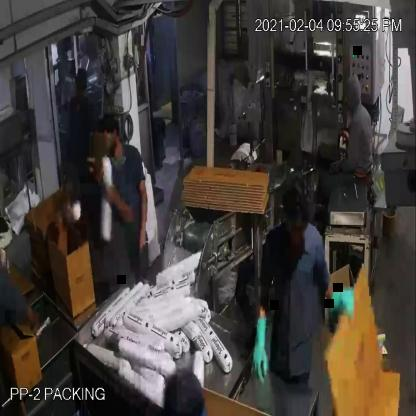glove: (239, 298, 279, 397), (328, 278, 357, 328)
no_glove: (97, 170, 136, 233), (136, 171, 155, 263)
